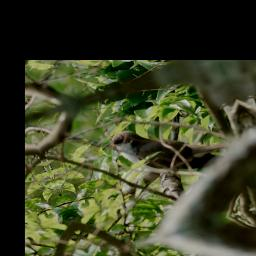Cuckoo: (97, 102, 239, 195)
